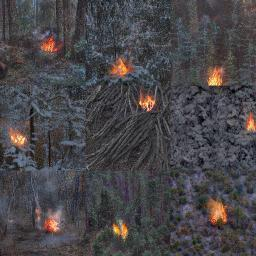Small fire: (3, 117, 45, 155), (28, 198, 71, 234), (32, 26, 73, 61), (200, 195, 235, 236), (98, 51, 139, 81), (135, 87, 165, 118), (107, 213, 138, 243), (201, 64, 230, 90), (238, 112, 256, 138)
